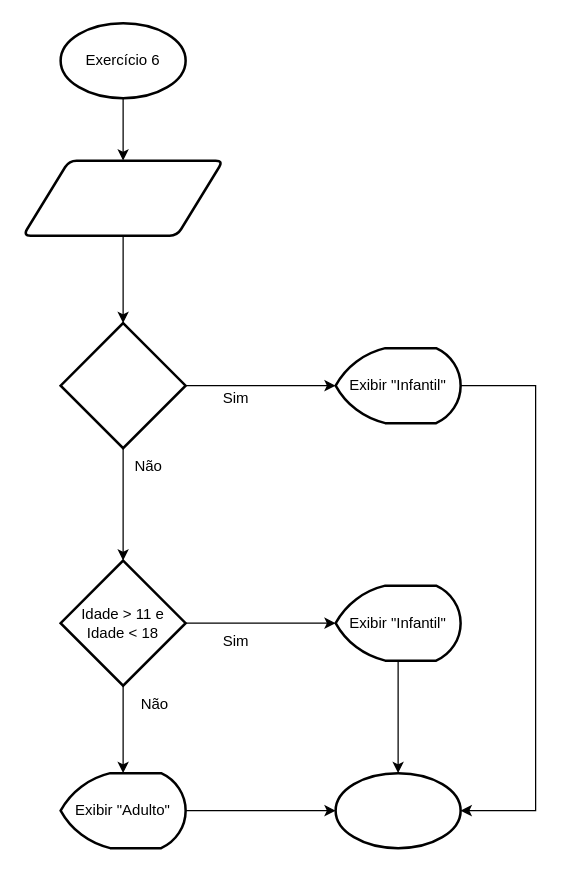
This 568x870 diagram has some shape labels left out. The centre of each missing label's shape, as x and y in pixels:
Fim: point 397,810
Idade: point 122,197
Idade > 5 e Idade < 10: point 122,385
